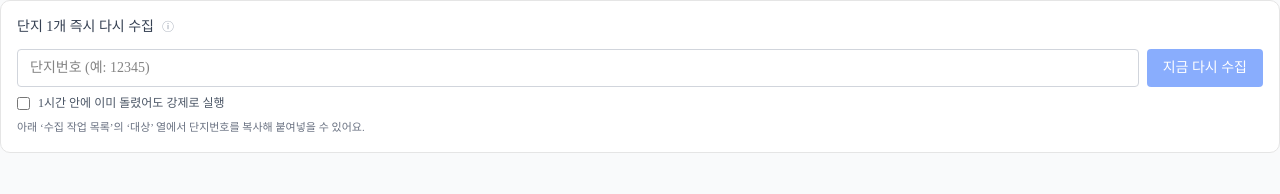
Test: SingleRecrawlCard 컴포넌트 › API 에러 응답 시 에러 메시지 표시
Type "99999" into the field with placeholder "단지번호 (예: 12345)" at [578, 68], box [17,49,1139,87]
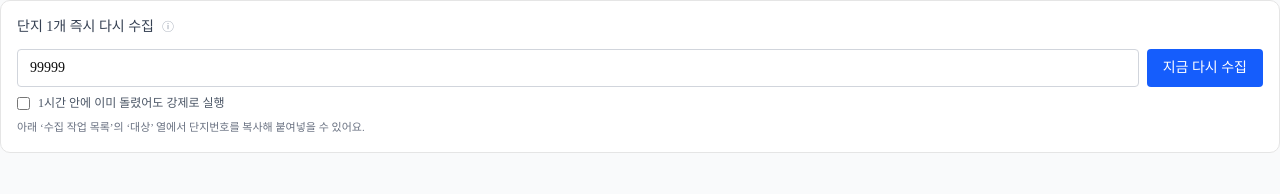
Click the button "지금 다시 수집" at [1205, 68], box [1147,49,1263,87]
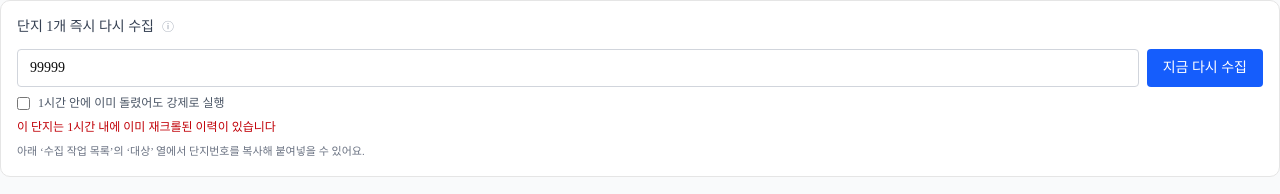
Check: the text "이 단지는 1시간 내에 이미 재크롤된 이력이 있습니다" is shown, box [17,120,276,134]
